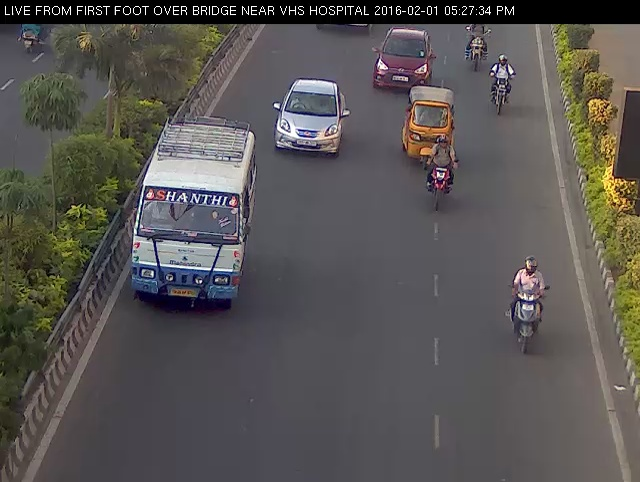Auto: (390, 72, 469, 168)
Bus: (126, 112, 258, 328), (303, 15, 377, 39)
Car: (267, 72, 353, 163), (364, 17, 442, 98)
Person: (496, 244, 556, 367), (417, 134, 466, 215), (455, 16, 496, 81), (485, 53, 519, 118)
